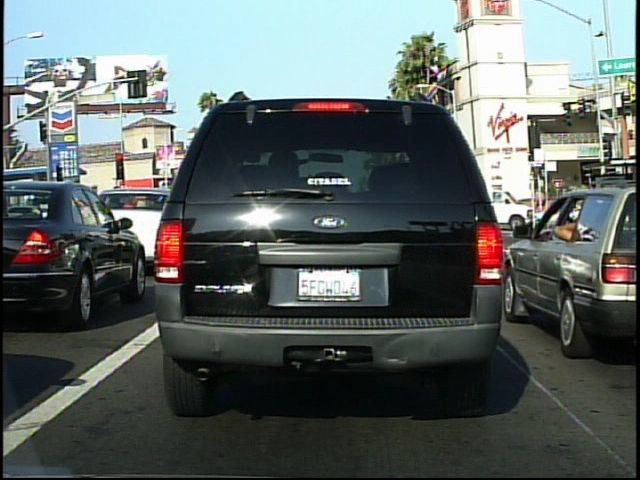person: (588, 183, 616, 240), (556, 181, 576, 237)
